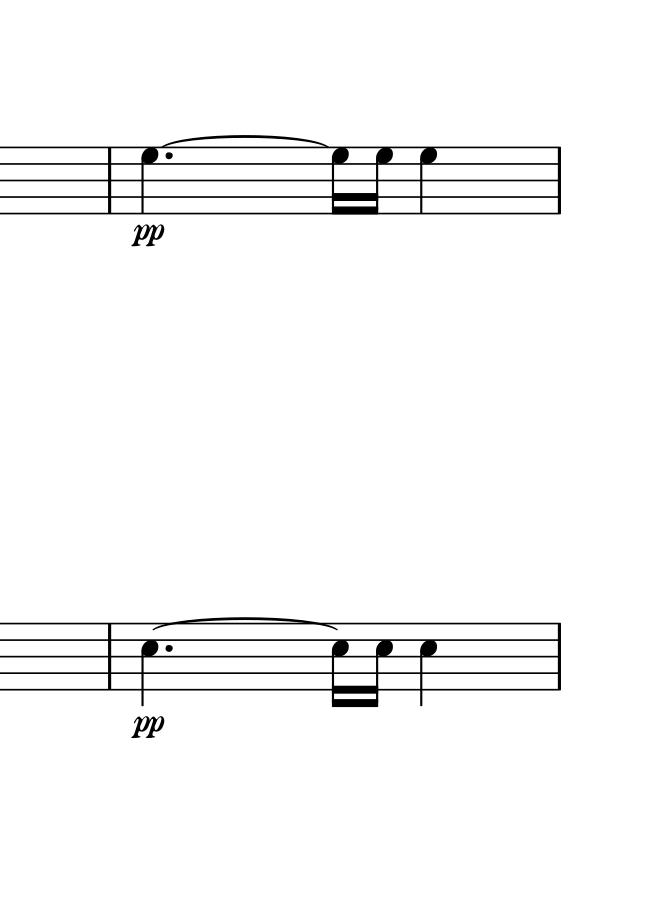16_5: (366, 621, 395, 709), (330, 622, 351, 708)
16_7: (367, 144, 394, 216), (330, 145, 351, 219)
4_5: (418, 621, 439, 708), (139, 621, 159, 707)
4_7: (139, 144, 163, 217), (417, 145, 438, 216)
Single_barline: (549, 622, 567, 691), (550, 146, 567, 214), (102, 623, 117, 691), (102, 147, 117, 214)
Slur: (156, 616, 338, 631), (157, 134, 330, 146)
dot: (161, 641, 175, 656), (162, 150, 175, 163)
pp: (131, 711, 165, 742), (130, 224, 164, 247)
